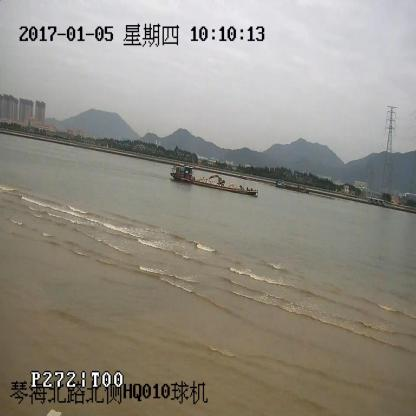Bulk Carrier: (172, 161, 260, 196)
